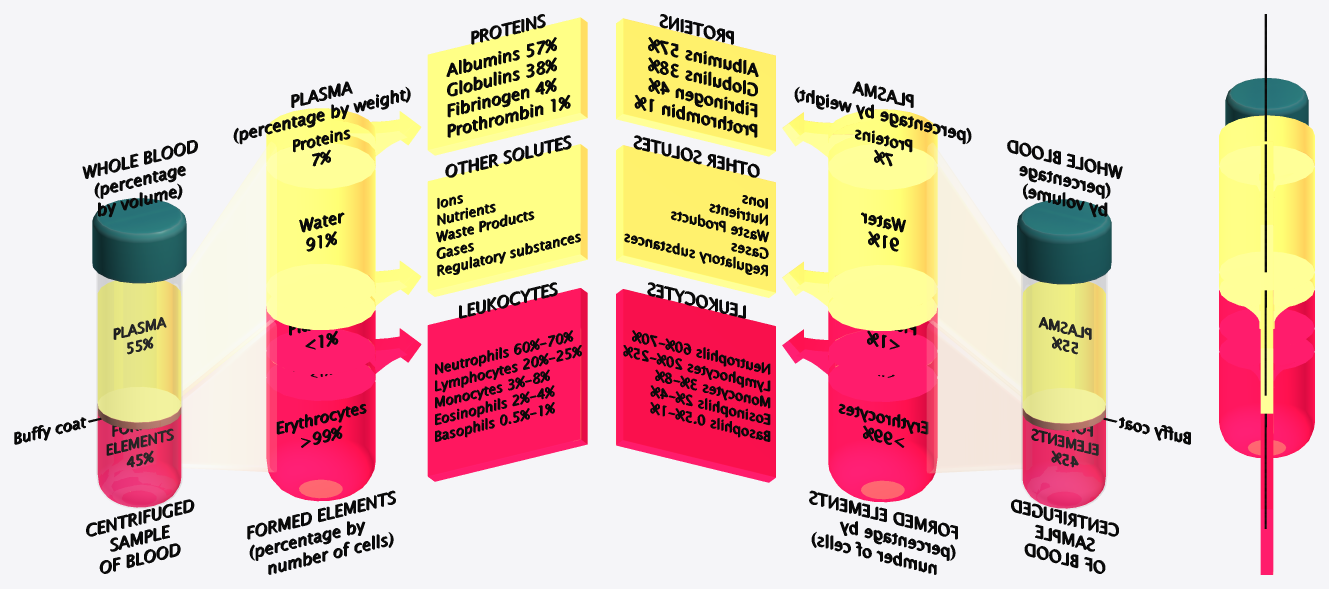
3 renders of one model, left to right at view 1: azimuth 30°, elevation 25°; view 2: azimuth 150°, elevation 25°; view 3: azimuth 270°, elevation 25°, orthographic. The views are drawn at different scales.
Visible parts, largest first — view 1: revers, Type, op, Glas, polySurface3; view 2: revers, Type, op, Glas, polySurface3; view 3: revers, polySurface3, Type.
Boxes of the visible parts, bbox=[...] form: revers: bbox=[97, 17, 587, 507]; Type: bbox=[14, 14, 581, 574]; op: bbox=[181, 142, 276, 471]; Glas: bbox=[96, 273, 181, 508]; polySurface3: bbox=[92, 198, 186, 429]; revers: bbox=[616, 18, 1105, 508]; Type: bbox=[623, 14, 1190, 574]; op: bbox=[927, 143, 1022, 472]; Glas: bbox=[1021, 273, 1106, 509]; polySurface3: bbox=[1017, 199, 1111, 430]; revers: bbox=[1219, 115, 1314, 574]; polySurface3: bbox=[1225, 78, 1308, 125]; Type: bbox=[1264, 14, 1266, 528].
Size of the model in its own units: 0.47 by 0.3904 by 0.0785.
5 materials, 3 textured.
